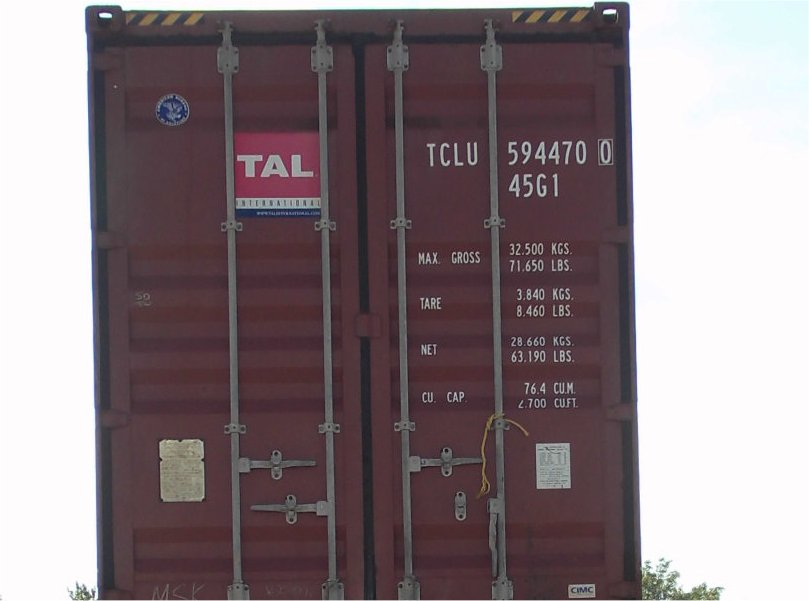container_door: (80, 8, 635, 597)
